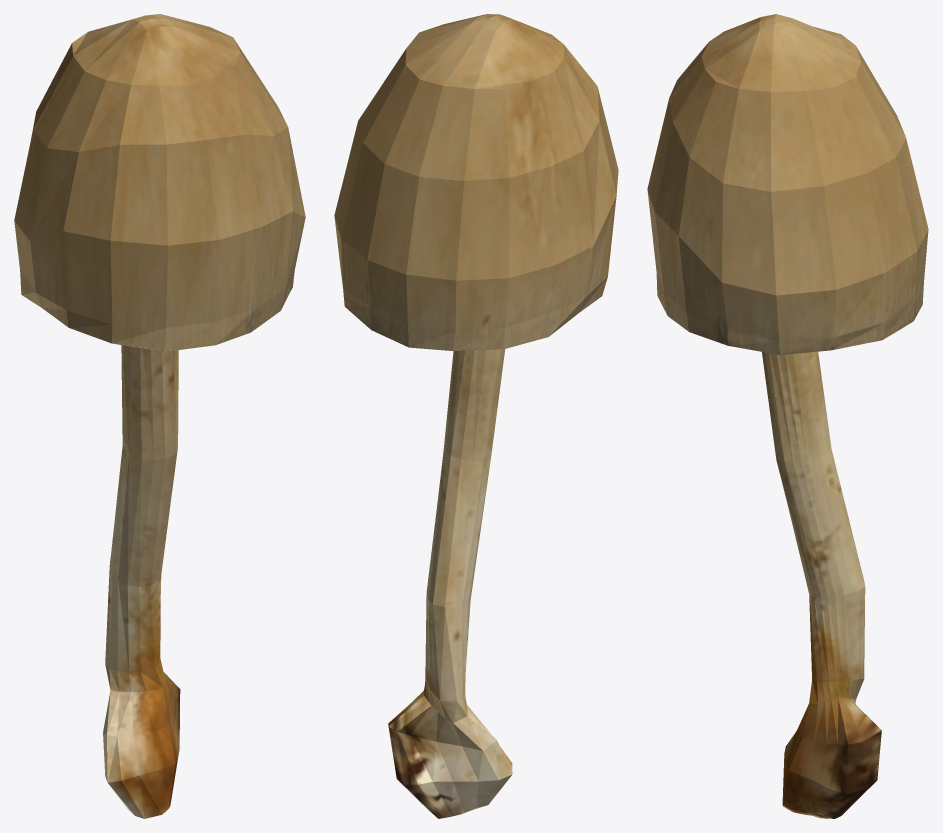
The model's file is P_Xinbaogu_01.obj.
3 views of the same model, side by side, from view 1: azimuth 30°, elevation 25°; view 2: azimuth 150°, elevation 25°; view 3: azimuth 270°, elevation 25° (orthographic). The views are drawn at different scales.
Size of the model in its own units: 0.1436 by 0.4363 by 0.1411.
Materials: 1 (1 with a texture image).
